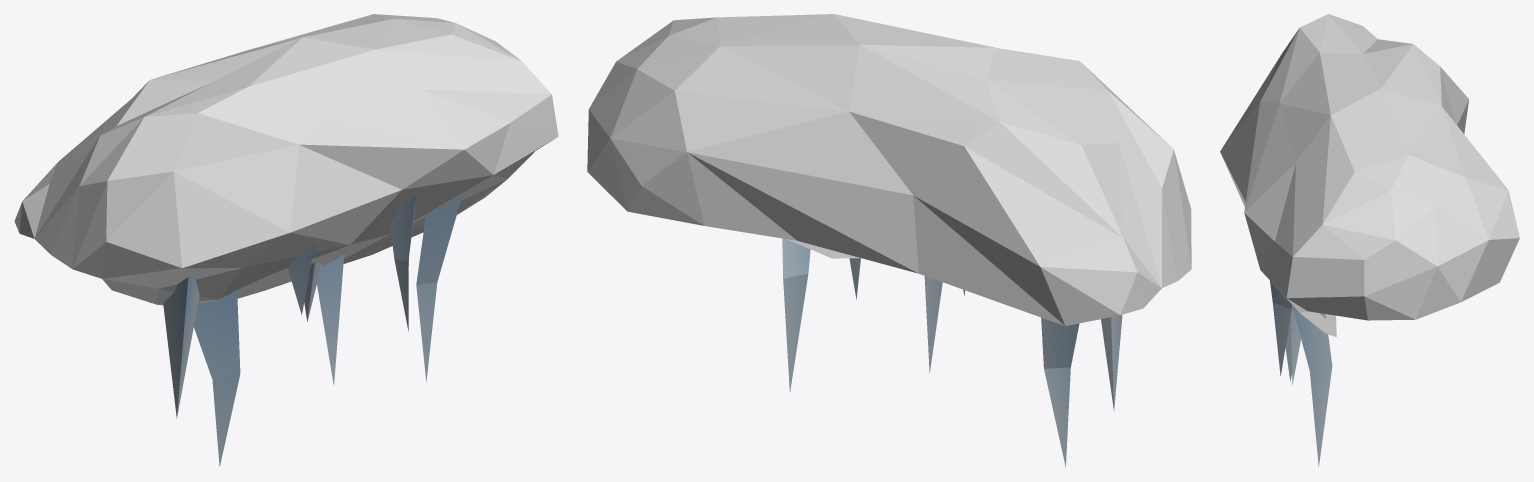
The model's file is sm_border_snow_2.fbx.
The picture shows the model from 3 angles, left to right: view 1: azimuth 30°, elevation 25°; view 2: azimuth 150°, elevation 25°; view 3: azimuth 270°, elevation 25°; orthographic projection. The views are drawn at different scales.
Visible parts, largest first — view 1: sm_border_snow_2; view 2: sm_border_snow_2; view 3: sm_border_snow_2.
Boxes of the visible parts, x1=… form: sm_border_snow_2: x1=14, y1=14, x2=558, y2=466; sm_border_snow_2: x1=587, y1=14, x2=1191, y2=467; sm_border_snow_2: x1=1220, y1=14, x2=1519, y2=467.
Size of the model in its own units: 228 by 318 by 175.
